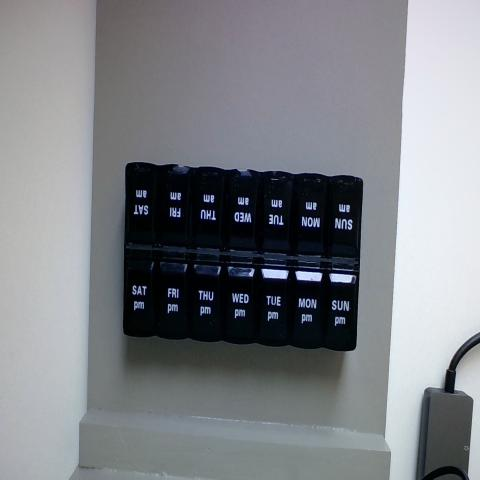FRI-am: (159, 166, 189, 248)
FRI-pm: (157, 253, 188, 337)
MON-am: (296, 173, 325, 257)
MON-pm: (292, 268, 326, 346)
PillBox: (101, 114, 380, 383)
SAT-am: (128, 167, 158, 253)
SAT-pm: (126, 253, 155, 333)
SUN-am: (330, 179, 362, 262)
SUN-pm: (329, 271, 357, 350)
THU-am: (191, 166, 224, 250)
THU-pm: (190, 256, 220, 338)
TUE-am: (262, 171, 293, 256)
TUE-pm: (260, 265, 289, 346)
WED-am: (226, 171, 260, 253)
WED-pm: (222, 257, 258, 342)
